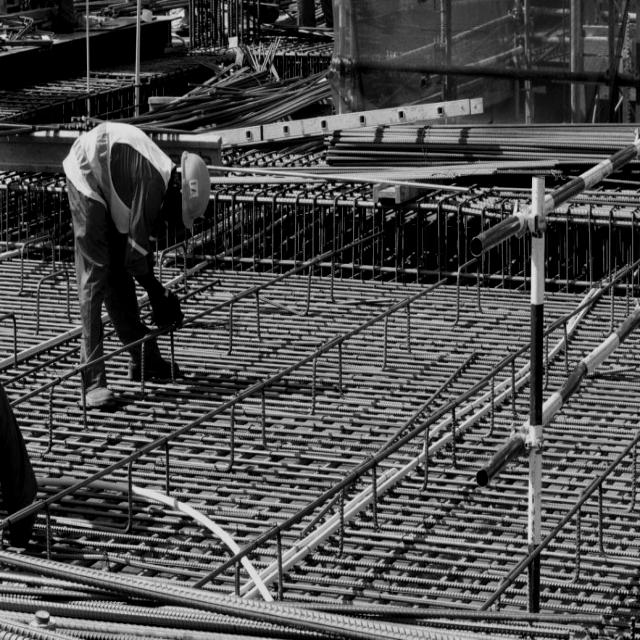hand_glove: (136, 256, 182, 334)
head_helmet: (181, 150, 210, 228)
person: (60, 102, 206, 389)
shoes: (125, 348, 182, 386), (76, 376, 118, 416)
vest: (64, 116, 175, 220)
